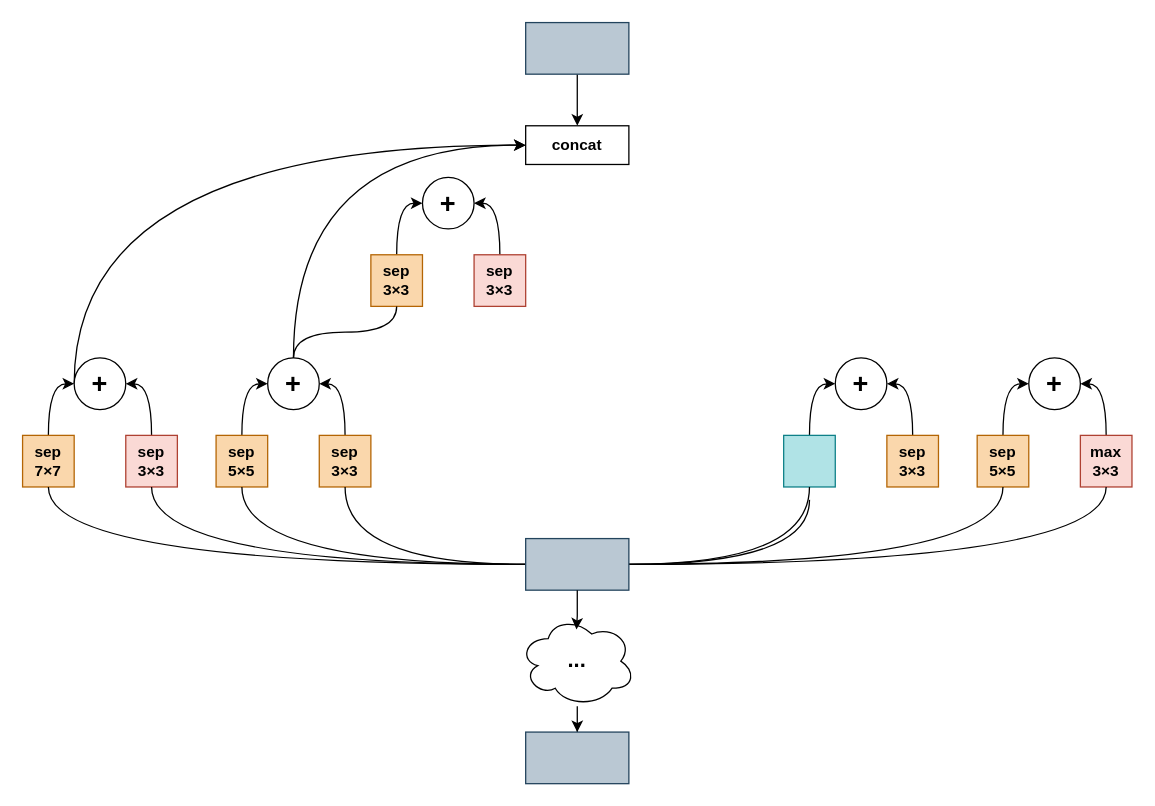
Some shapes in this 1155 by 806 pixel diagram are drawn without their labels. Each missing label, with the centre of its shape:
H c: (x=576, y=47)
H c-1: (x=576, y=563)
H c-2: (x=576, y=757)
inden tilty: (x=808, y=460)
